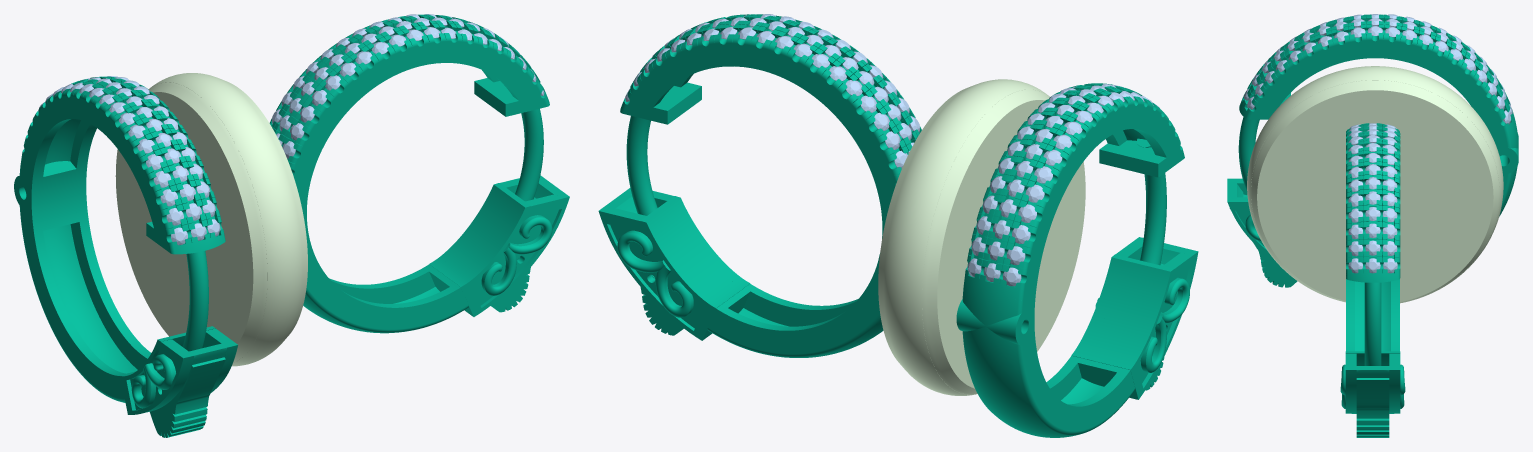
3 renders of one model, left to right at view 1: azimuth 30°, elevation 25°; view 2: azimuth 150°, elevation 25°; view 3: azimuth 270°, elevation 25°, orthographic. The views are drawn at different scales.
Visible parts, largest first — view 1: VEAR166.3dm; view 2: VEAR166.3dm; view 3: VEAR166.3dm.
Boxes of the visible parts, box(x1,y1,x2,y2) form: VEAR166.3dm: box(14, 14, 569, 437); VEAR166.3dm: box(598, 14, 1198, 437); VEAR166.3dm: box(1227, 14, 1518, 437).
Size of the model in its own units: 2.98 by 1.88 by 1.9.
